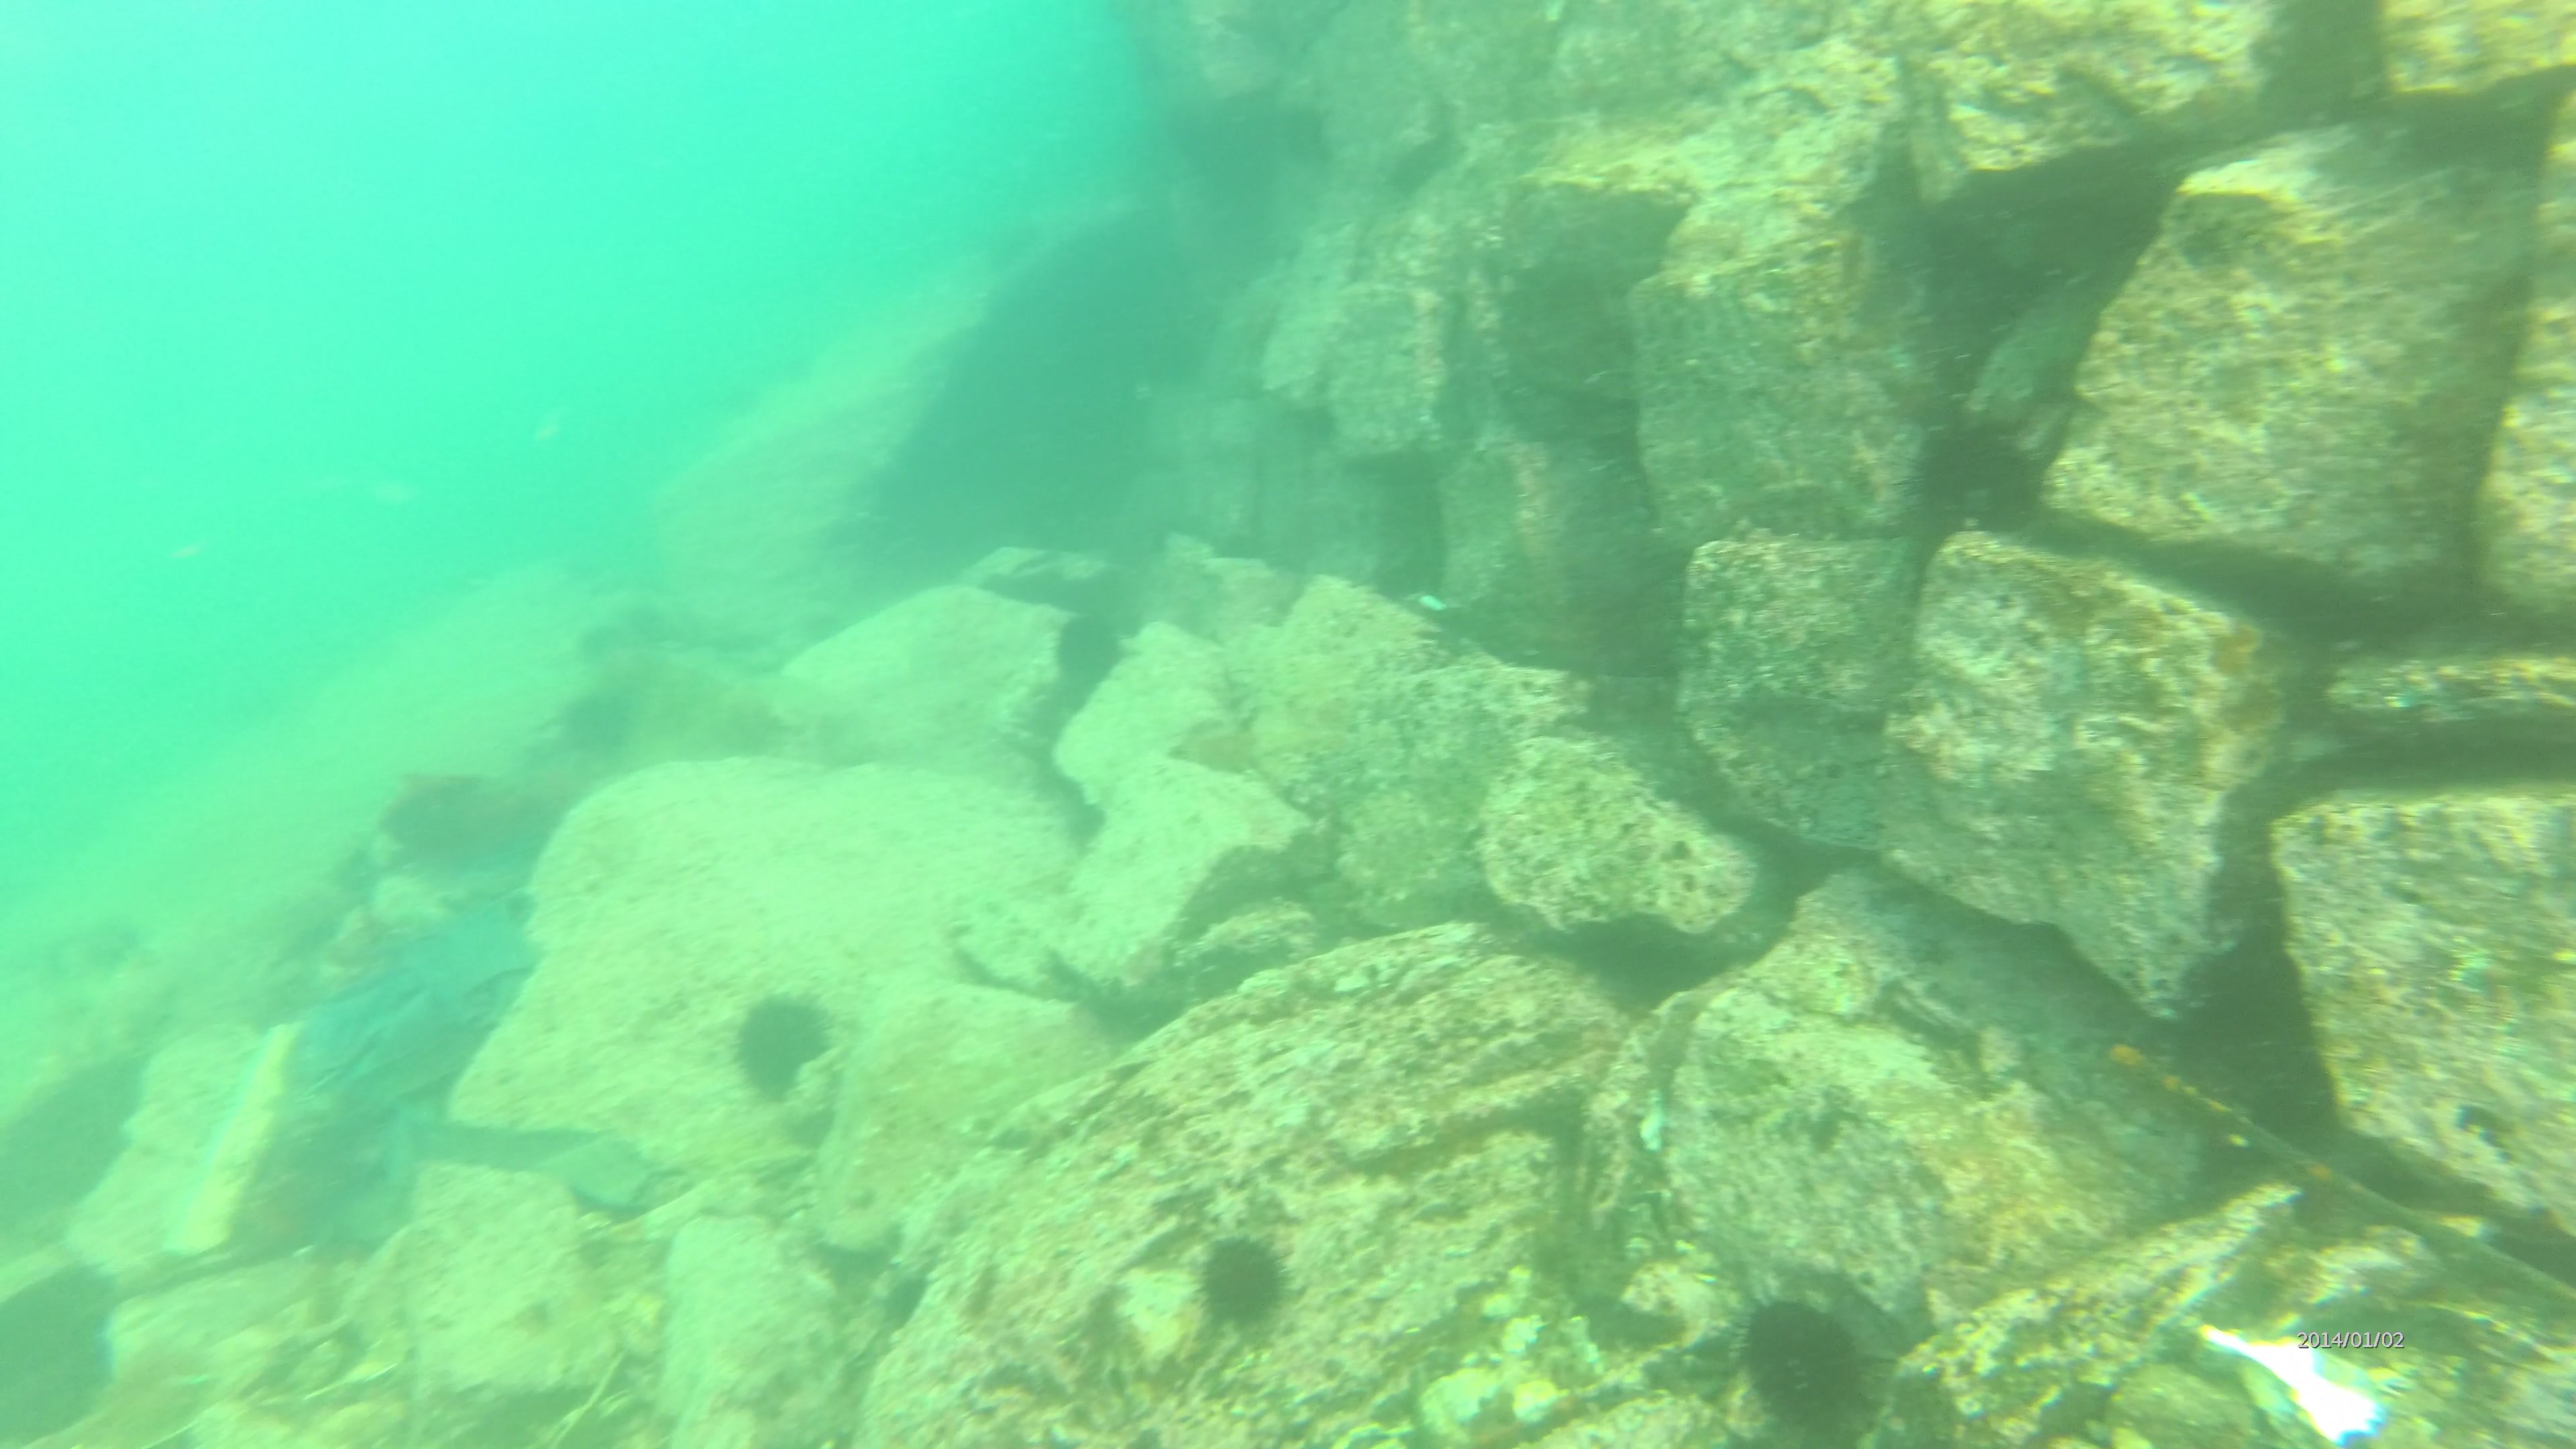echinus: (1721, 1284, 1877, 1435), (1911, 410, 2035, 536), (729, 989, 837, 1097), (1203, 1231, 1283, 1327), (1049, 612, 1132, 686)
